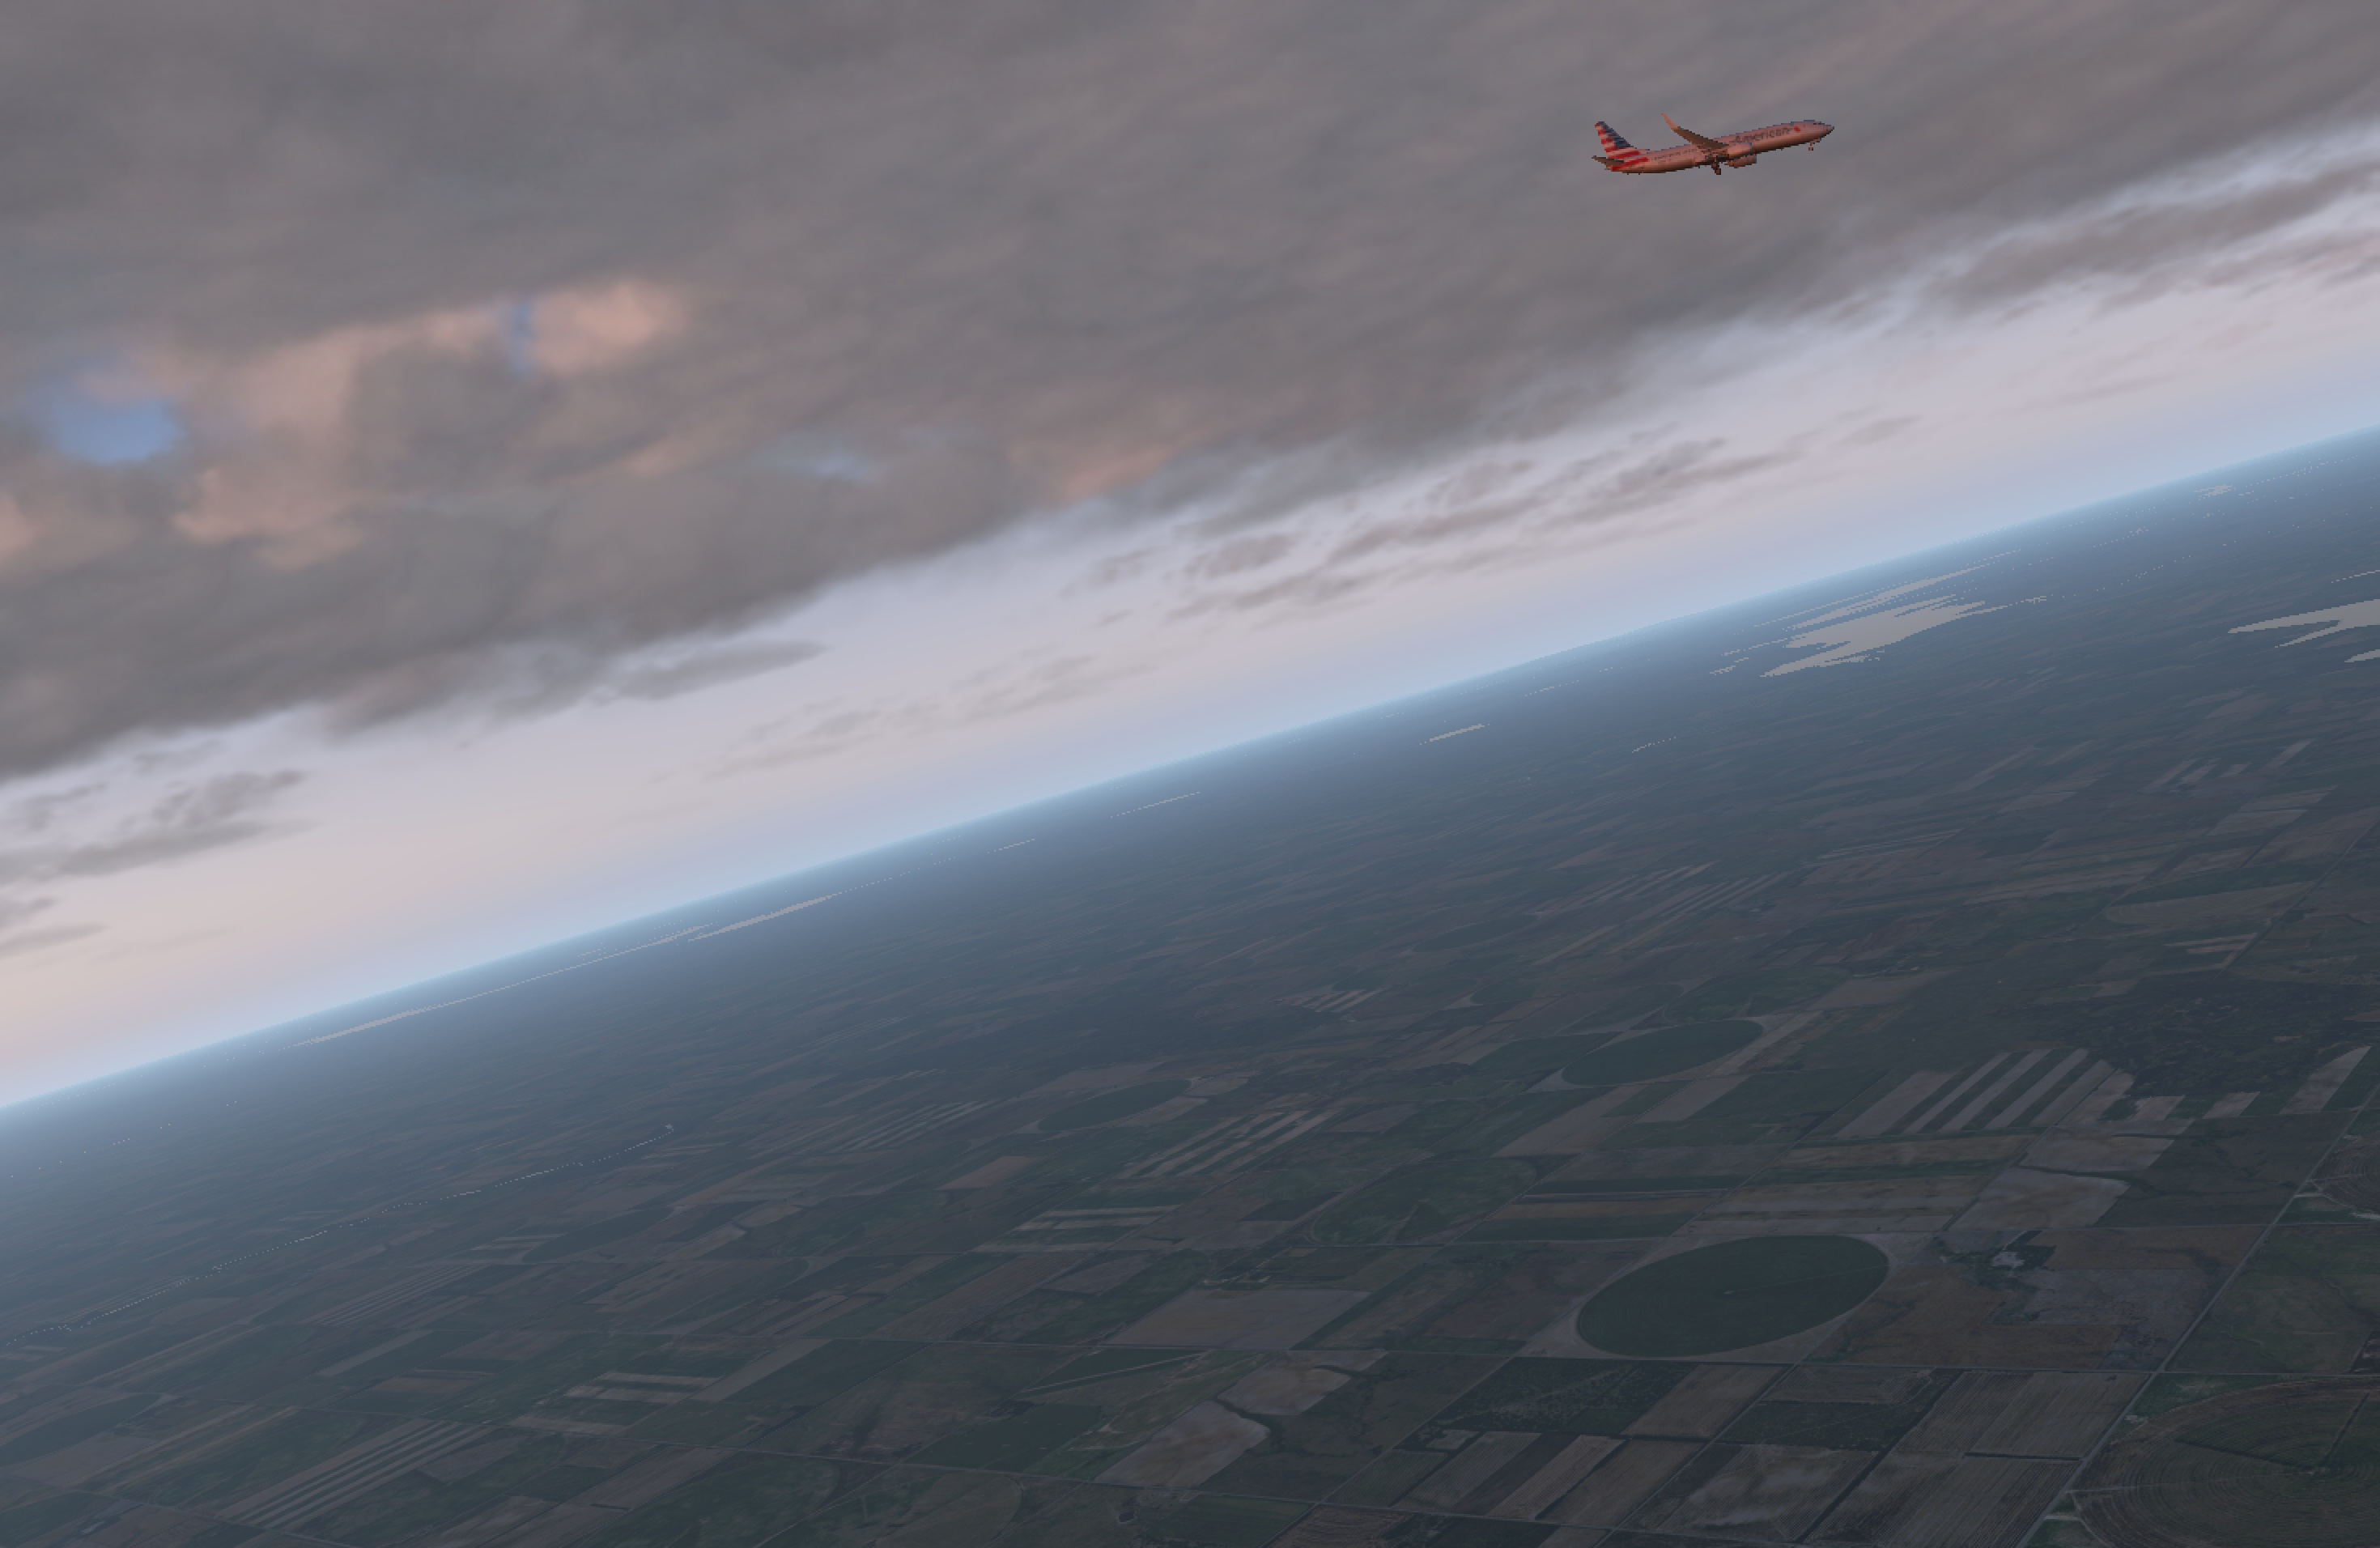aircraft: (1617, 113, 1830, 193)
